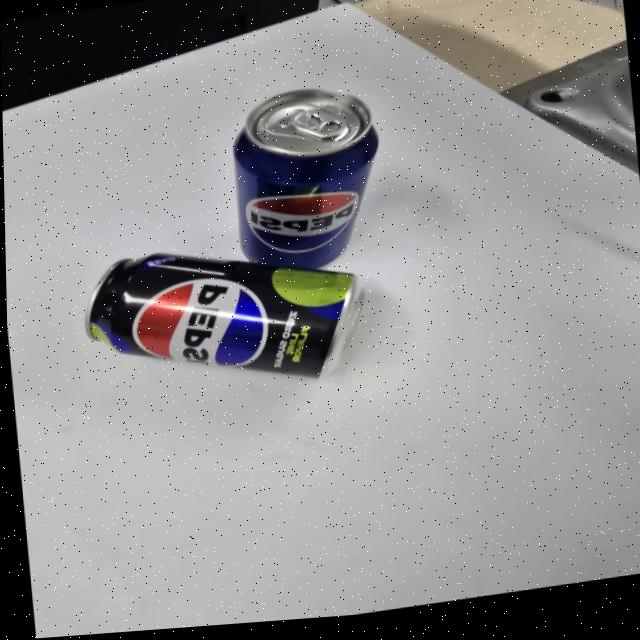can_pepsi: (235, 89, 374, 271)
can_pepsi_zero: (87, 252, 366, 378)
